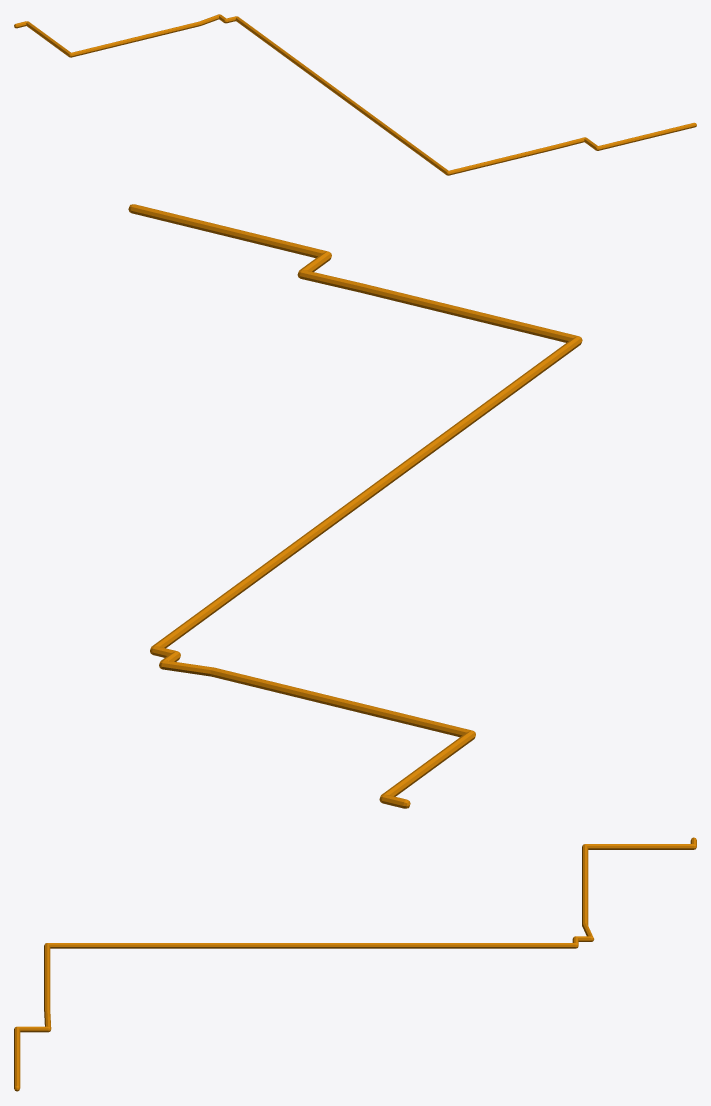
3 views of the same model, one above another, from view 1: azimuth 30°, elevation 25°; view 2: azimuth 150°, elevation 25°; view 3: azimuth 270°, elevation 25° (orthographic). The views are drawn at different scales.
Size of the model in its own units: 1909 by 20 by 2197.
